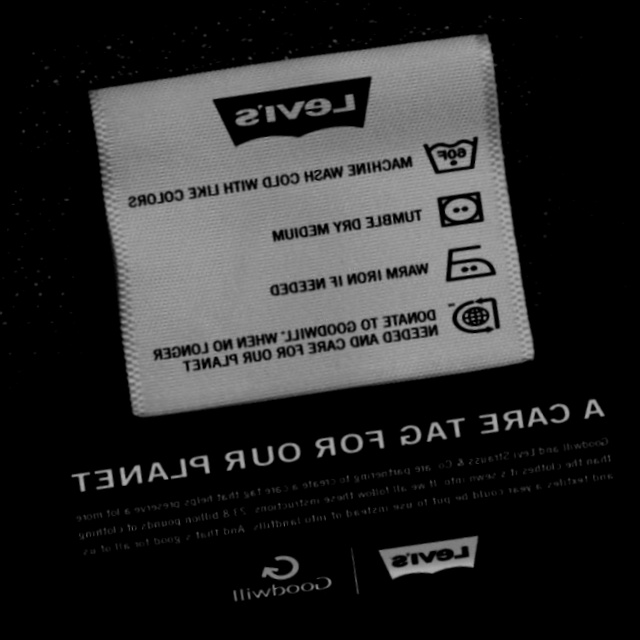30C: (411, 118, 492, 190)
iron_medium: (429, 228, 507, 297)
tumble_dry_medium: (425, 179, 497, 242)
